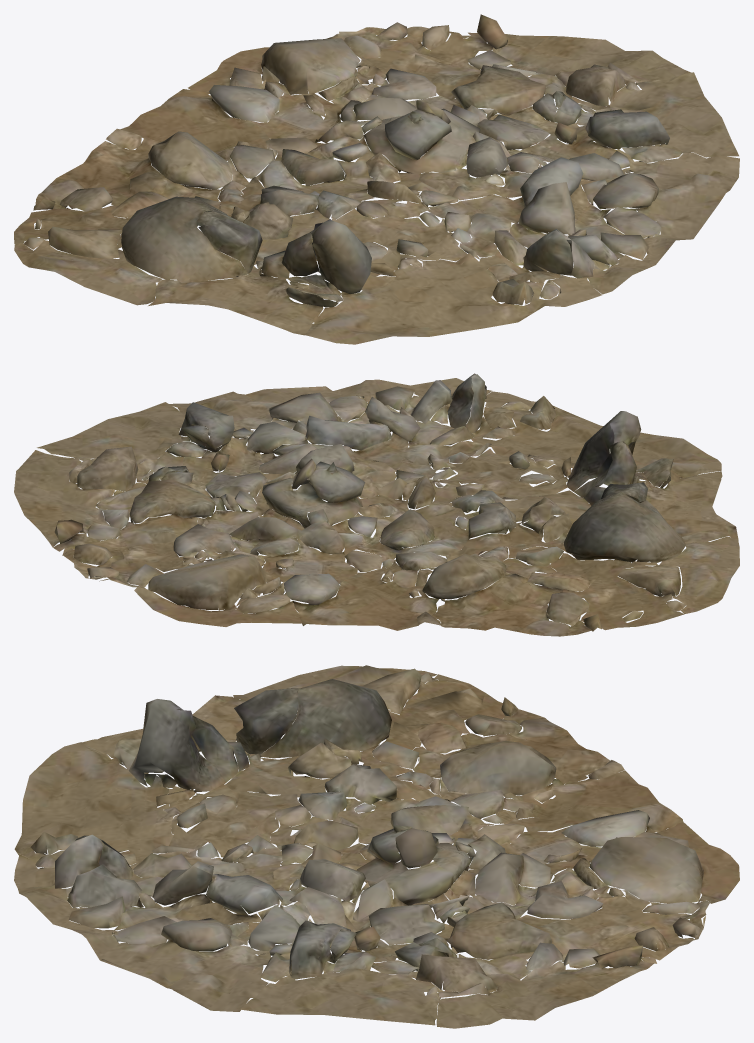
Rendered from ph_sand_rocks_small_01.glb.
3 views of the same model, one above another, from view 1: azimuth 30°, elevation 25°; view 2: azimuth 150°, elevation 25°; view 3: azimuth 270°, elevation 25° (orthographic). The views are drawn at different scales.
Visible parts, largest first — view 1: sand_rocks_small_01_LOD0; view 2: sand_rocks_small_01_LOD0; view 3: sand_rocks_small_01_LOD0.
Part boxes in pixels (x1,y1,x2,y2): sand_rocks_small_01_LOD0: [14, 14, 739, 344]; sand_rocks_small_01_LOD0: [14, 373, 739, 636]; sand_rocks_small_01_LOD0: [14, 665, 739, 1028].
Size of the model in its own units: 4.63 by 0.5266 by 3.88.
Materials: 1 (1 with a texture image).
